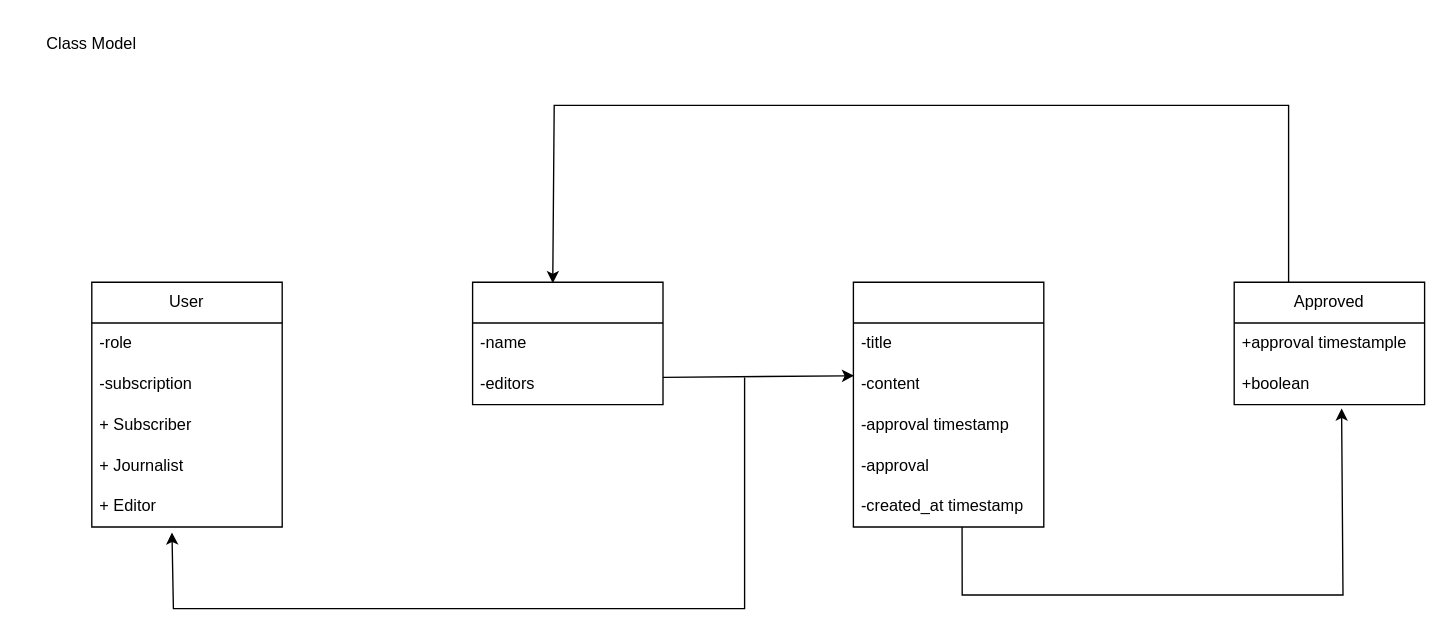
This 1448x643 diagram has some shape labels left out. The box of each missing label's shape, as (x1, y1, x2, y2) in pixels:
Article: (852, 281, 1044, 527)
Publisher: (471, 281, 663, 405)
